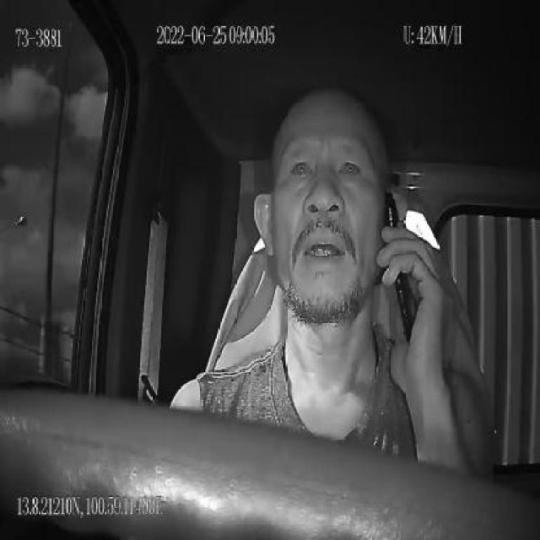phone: (383, 185, 414, 346)
